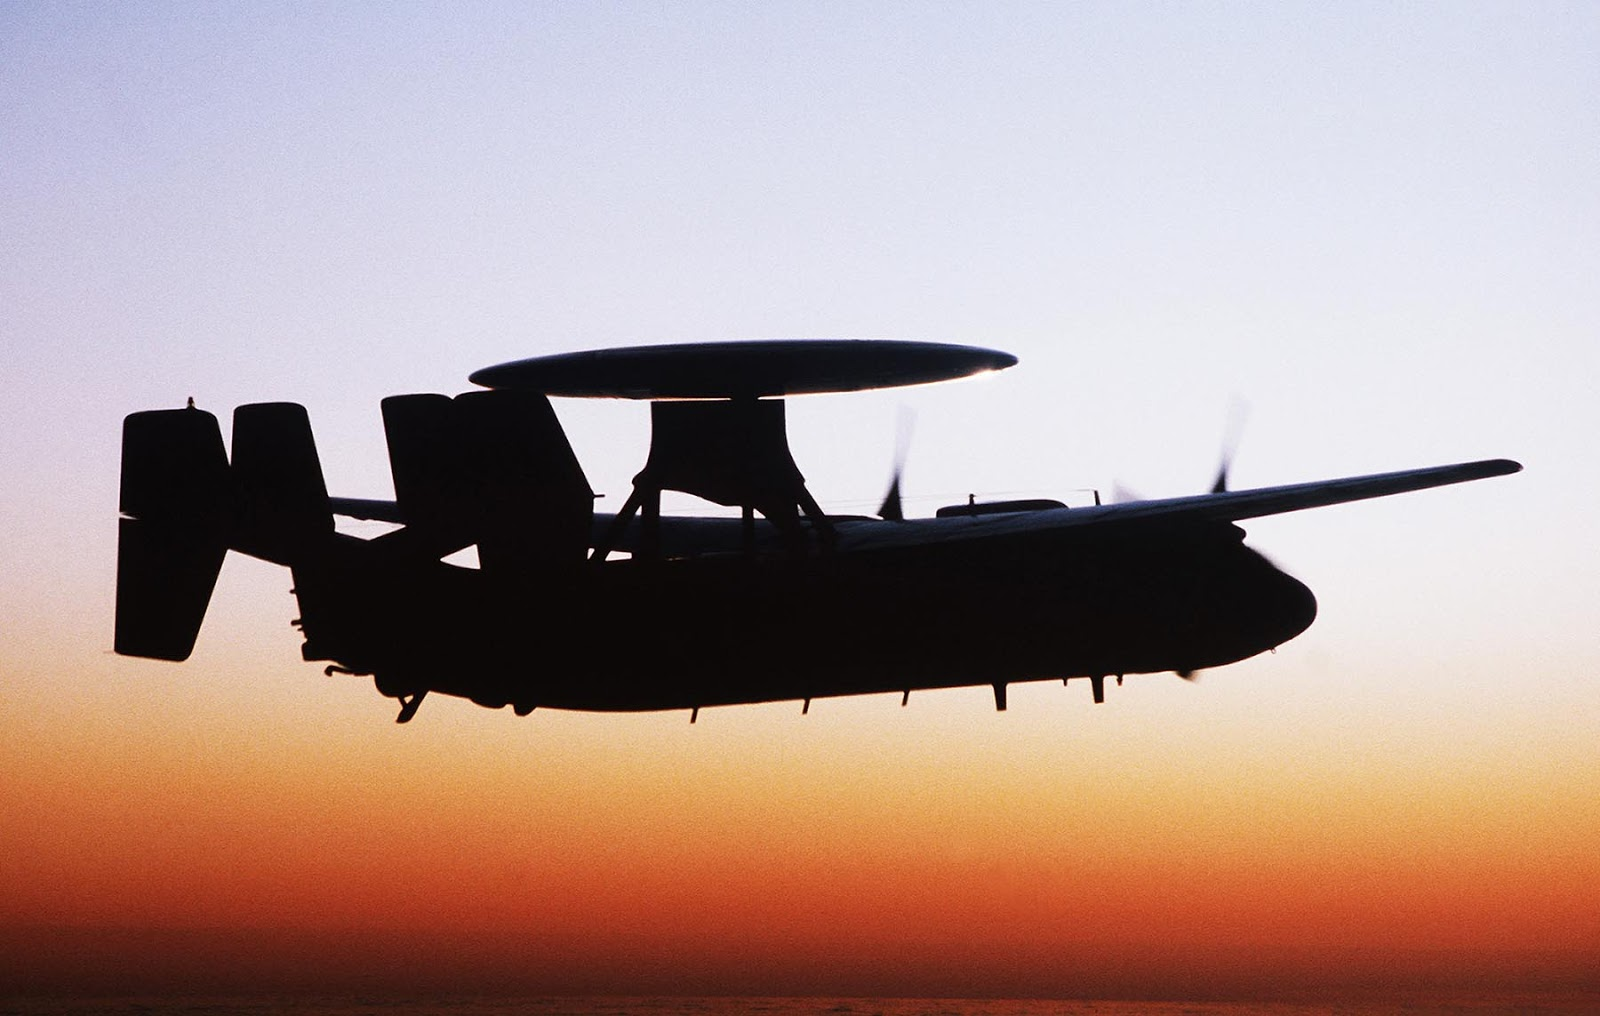E2: (101, 339, 1525, 723)
